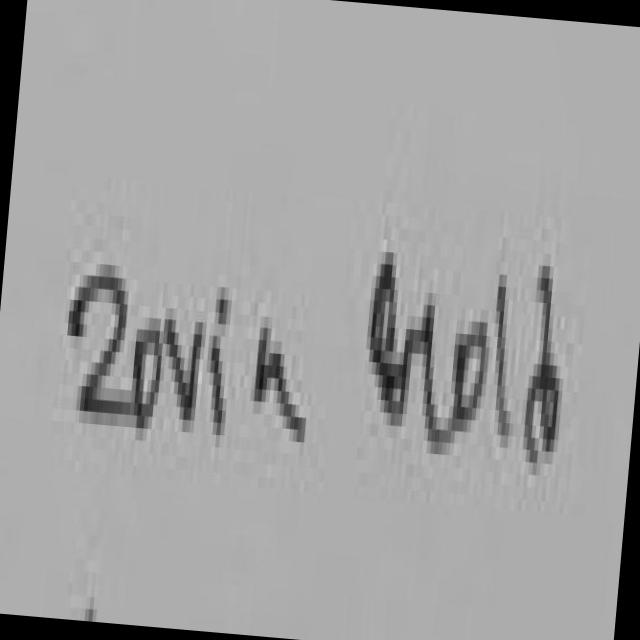G: (347, 204, 461, 496)
Z: (40, 232, 144, 460)
a: (222, 248, 322, 522)
d: (509, 224, 579, 506)
i: (198, 268, 250, 480)
l: (478, 235, 534, 457)
o: (440, 281, 498, 454), (121, 299, 168, 446)
v: (152, 266, 214, 439)
